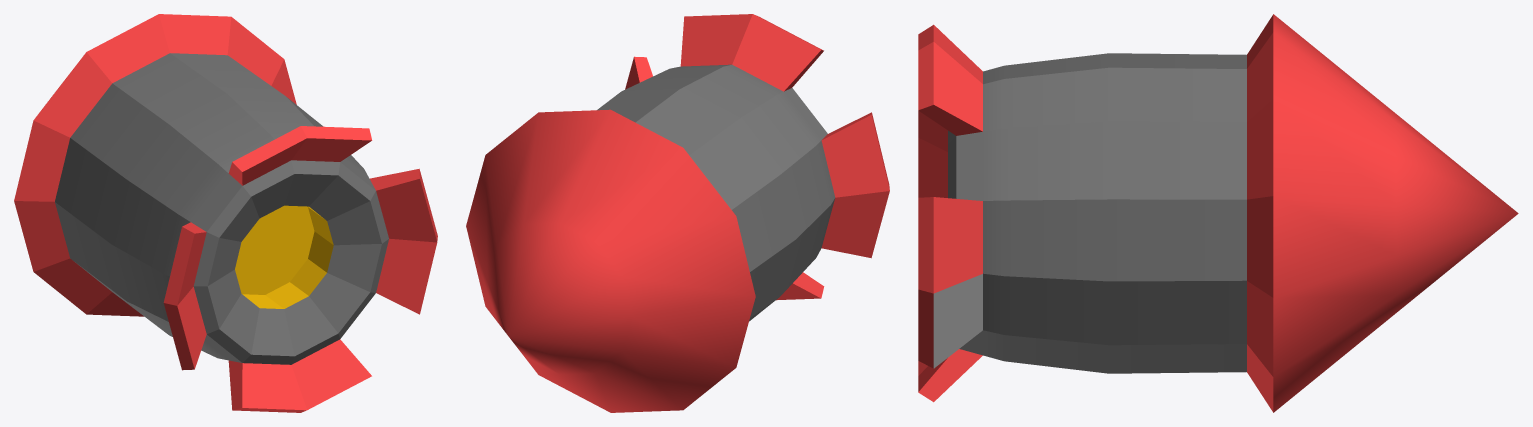
The model's file is Rocket_1.fbx.
3 views of the same model, side by side, from view 1: azimuth 30°, elevation 25°; view 2: azimuth 150°, elevation 25°; view 3: azimuth 270°, elevation 25° (orthographic). The views are drawn at different scales.
Parts seen in each view (by area): view 1: pCylinder2; view 2: pCylinder2; view 3: pCylinder2.
Boxes of the visible parts, left/top/right/bottom form: pCylinder2: left=14, top=14, right=437, bottom=412; pCylinder2: left=466, top=14, right=889, bottom=412; pCylinder2: left=918, top=14, right=1518, bottom=412.
Bounding box in the file's own units: 152 × 152 × 228.
